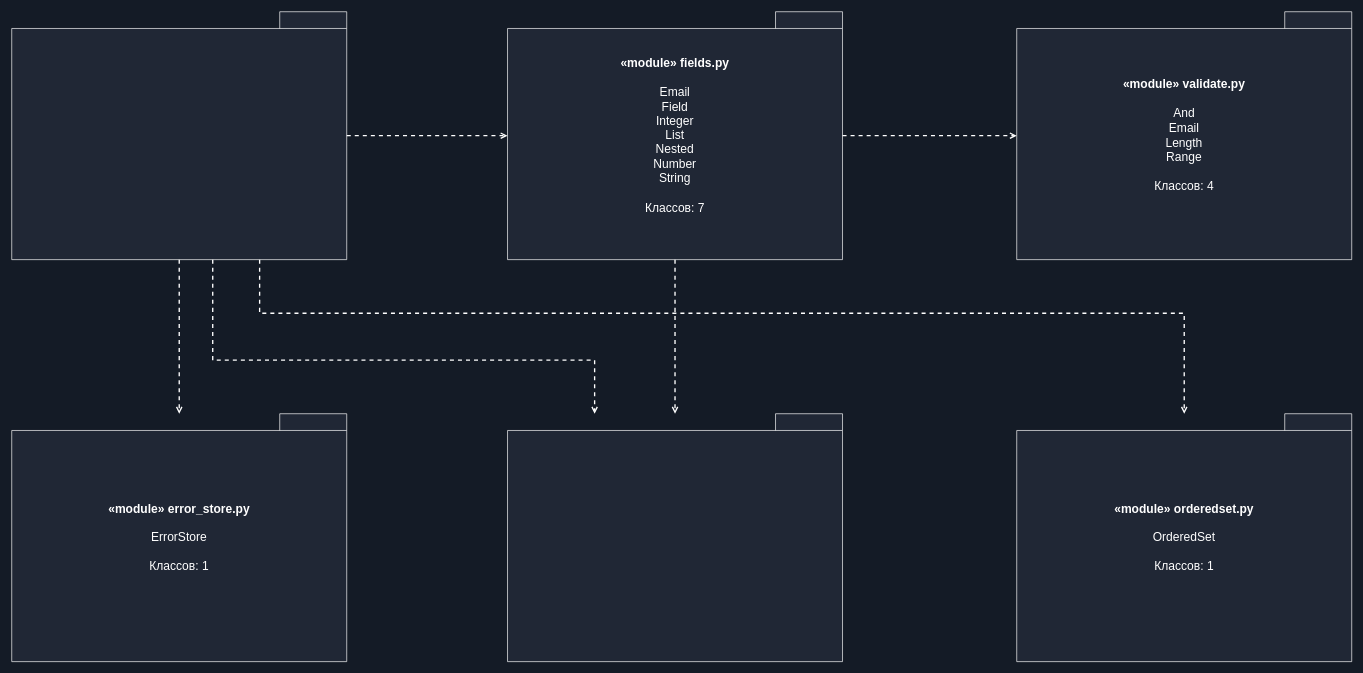
The diagram is 1363 pixels wide and 673 high, and some of its shapes have lost their labels. Here are the shapes that lost their labels. From the top down, the centre of each, then its label:
At [179,135]: "«module» schema.py Schema SchemaMeta SchemaOpts Классов: 3".
At [675,537]: "«module» exceptions.py ValidationError Классов: 1".
